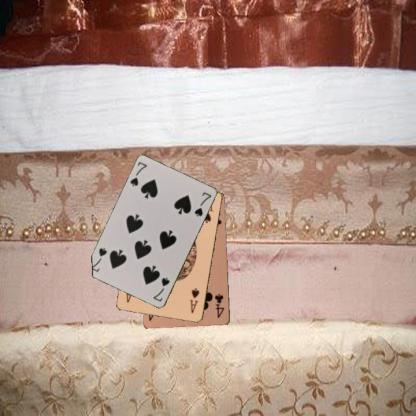4c: (212, 291, 225, 320)
7s: (127, 159, 148, 188), (150, 275, 171, 303)
As: (188, 285, 200, 315)
